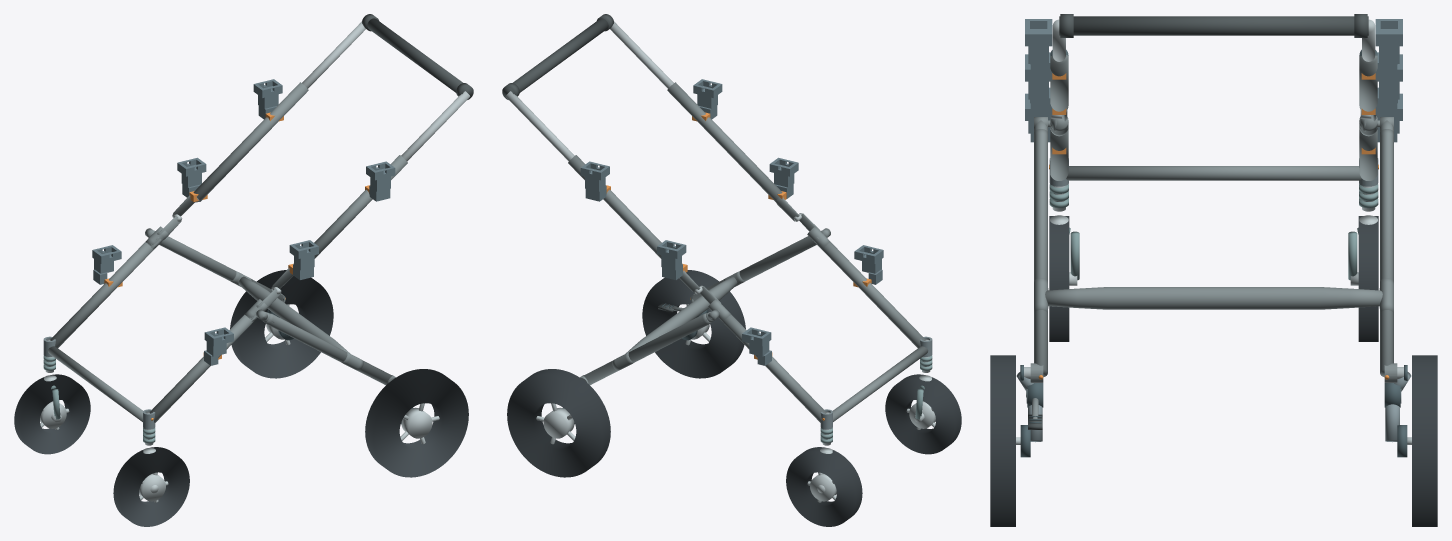
File: w650_state1_wheel_M.glb
3 renders of one model, left to right at view 1: azimuth 30°, elevation 25°; view 2: azimuth 150°, elevation 25°; view 3: azimuth 270°, elevation 25°, orthographic. The views are drawn at different scales.
Visible parts, largest first — view 1: RL_tire.008, RR_tire.008, FL_tire.008, FR_tire.008, main_upper_1.009, main_lower_1.009, round_handle.008, V46_rear_leg_-1.009, V46_rearbar.009, main_lower_-1.009, front_fixed_round_tube.008, main_upper_-1.009 (+10 smaller); view 2: RR_tire.008, RL_tire.008, FR_tire.008, FL_tire.008, main_upper_-1.009, main_lower_-1.009, round_handle.008, V46_rear_leg_1.009, V46_rearbar.009, main_lower_1.009, front_fixed_round_tube.008, main_upper_1.009 (+10 smaller); view 3: V46_rearbar.009, round_handle.008, RL_tire.008, RR_tire.008, front_fixed_round_tube.008, V46_rear_leg_1.009, V46_rear_leg_-1.009, FL_tire.008, FR_tire.008, Universal_Cabin_Receiver_H_1, Universal_Cabin_Receiver_H_-1, Universal_Cabin_Receiver_M_1 (+6 smaller).
Part boxes in pixels (left/top/right/bottom): RL_tire.008: left=365, top=369, right=468, bottom=477; RR_tire.008: left=230, top=270, right=333, bottom=378; FL_tire.008: left=113, top=447, right=189, bottom=526; FR_tire.008: left=14, top=374, right=90, bottom=454; main_upper_1.009: left=193, top=82, right=308, bottom=201; main_lower_1.009: left=50, top=239, right=161, bottom=347; round_handle.008: left=367, top=18, right=472, bottom=98; V46_rear_leg_-1.009: left=264, top=313, right=392, bottom=385; V46_rearbar.009: left=238, top=276, right=350, bottom=353; main_lower_-1.009: left=149, top=315, right=256, bottom=422; front_fixed_round_tube.008: left=47, top=346, right=142, bottom=421; main_upper_-1.009: left=314, top=155, right=407, bottom=258; RR_tire.008: left=507, top=369, right=610, bottom=477; RL_tire.008: left=642, top=270, right=745, bottom=378; FR_tire.008: left=786, top=447, right=862, bottom=526; FL_tire.008: left=885, top=374, right=961, bottom=454; main_upper_-1.009: left=667, top=82, right=782, bottom=201; main_lower_-1.009: left=814, top=239, right=925, bottom=347; round_handle.008: left=503, top=18, right=608, bottom=98; V46_rear_leg_1.009: left=583, top=313, right=711, bottom=385; V46_rearbar.009: left=625, top=276, right=737, bottom=353; main_lower_1.009: left=719, top=315, right=826, bottom=422; front_fixed_round_tube.008: left=833, top=346, right=928, bottom=421; main_upper_1.009: left=568, top=155, right=661, bottom=258; V46_rearbar.009: left=1045, top=287, right=1382, bottom=309; round_handle.008: left=1059, top=16, right=1368, bottom=35; RL_tire.008: left=990, top=355, right=1015, bottom=526; RR_tire.008: left=1412, top=355, right=1437, bottom=526; front_fixed_round_tube.008: left=1066, top=166, right=1361, bottom=180; V46_rear_leg_1.009: left=1380, top=129, right=1393, bottom=377; V46_rear_leg_-1.009: left=1034, top=129, right=1047, bottom=377; FL_tire.008: left=1049, top=216, right=1069, bottom=341; FR_tire.008: left=1358, top=216, right=1378, bottom=341; Universal_Cabin_Receiver_H_1: left=1375, top=19, right=1402, bottom=80; Universal_Cabin_Receiver_H_-1: left=1025, top=19, right=1052, bottom=80; Universal_Cabin_Receiver_M_1: left=1375, top=54, right=1402, bottom=115.
Bounding box in the file's own units: 1.12 × 1.08 × 0.781.
